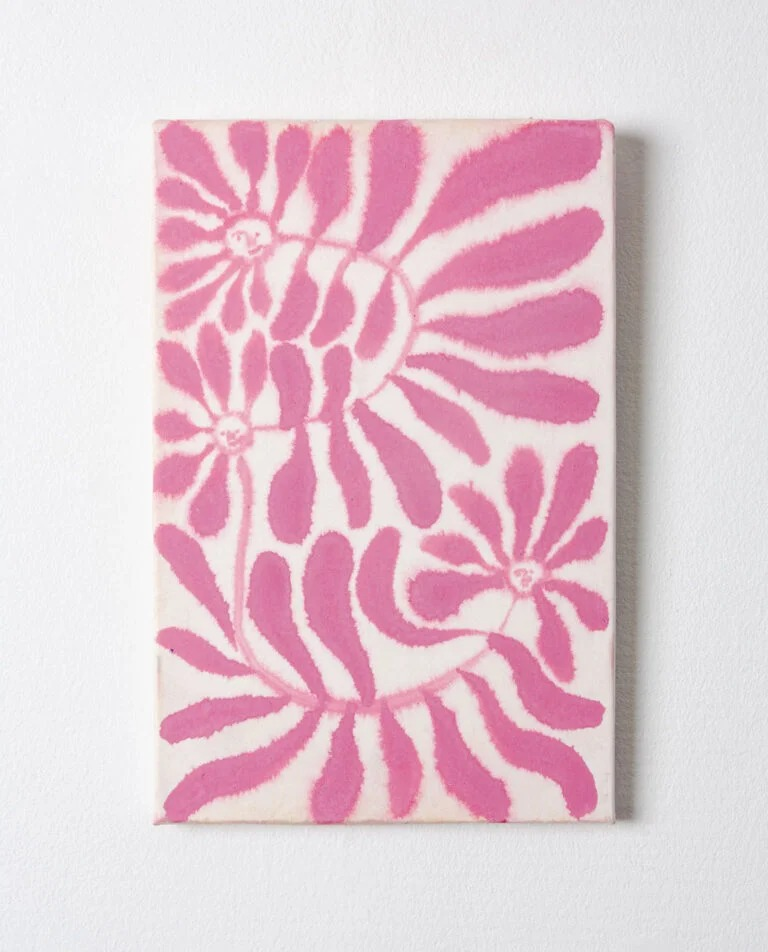painting: (150, 118, 619, 827)
